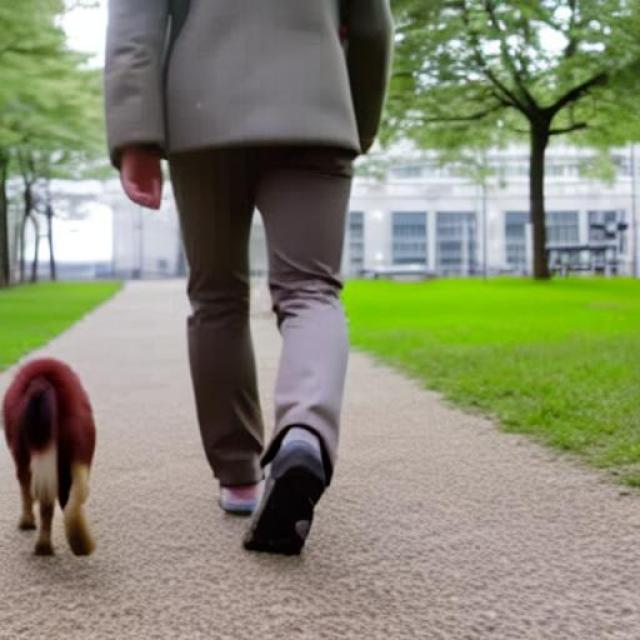Unleashed_Dog: (0, 82, 306, 560)
